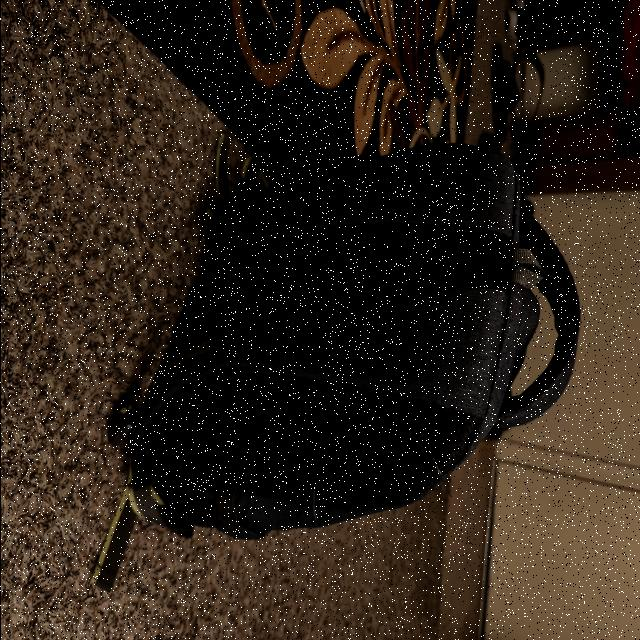bag: (151, 150, 579, 502)
